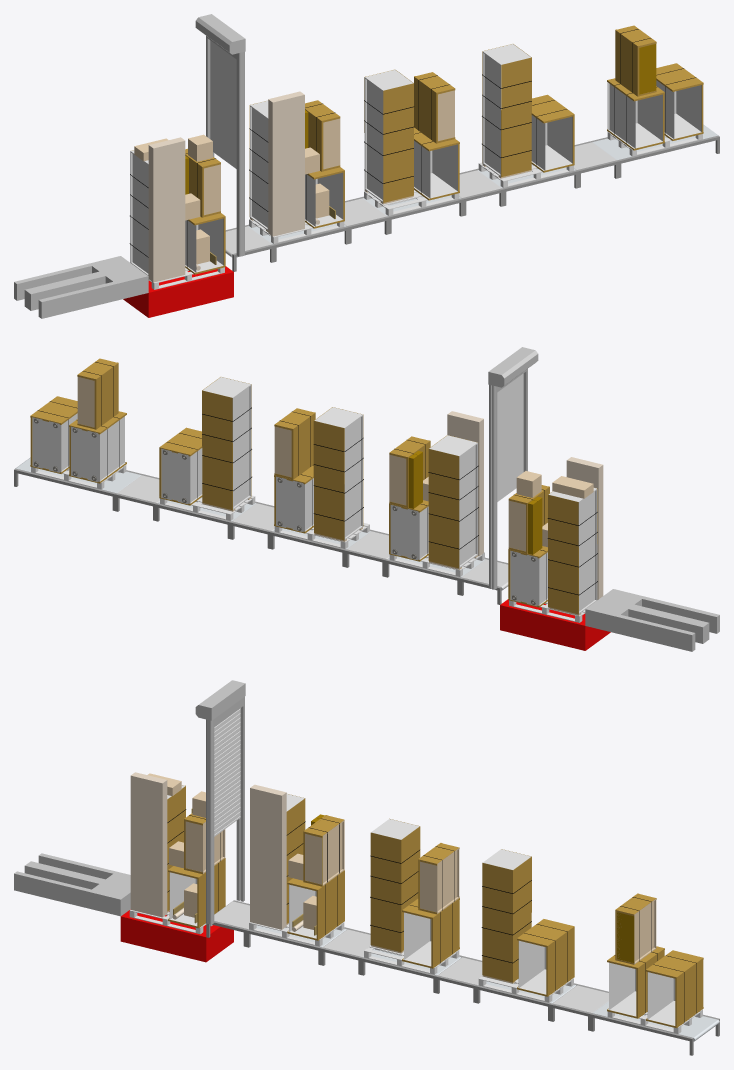
Rendered from squelette.glb.
3 views of the same model, one above another, from view 1: azimuth 30°, elevation 25°; view 2: azimuth 150°, elevation 25°; view 3: azimuth 330°, elevation 25° (orthographic).
Visible parts, largest first — view 1: Part 1 (×24), Part 4 (×8), Part 28__Part 28, Part 2 (×6), Part 3 (×2), Part 55__Part 55, Part 21__Part 21, Part 62__Part 62, Part 54__Part 54; view 2: Part 1 (×25), Part 4 (×8), Part 3 (×4), Part 28__Part 28, Part 2 (×5), Part 21__Part 21, Part 55__Part 55, Part 62__Part 62, Part 54__Part 54; view 3: Part 1 (×19), Part 3 (×8), Part 4 (×6), Part 28__Part 28, Part 62__Part 62, Part 21__Part 21, Part 2 (×4), Part 55__Part 55, Part 54__Part 54.
Boxes of the visible parts, x1,y1,x2,y2 form: Part 1 (×24): (130, 44, 719, 282); Part 4 (×8): (185, 29, 703, 217); Part 28__Part 28: (14, 256, 148, 318); Part 2 (×6): (249, 44, 718, 243); Part 3 (×2): (383, 97, 531, 202); Part 55__Part 55: (210, 40, 236, 168); Part 21__Part 21: (123, 266, 233, 317); Part 62__Part 62: (206, 36, 244, 256); Part 54__Part 54: (195, 14, 245, 54); Part 1 (×25): (14, 377, 603, 613); Part 4 (×8): (30, 362, 597, 557); Part 3 (×4): (202, 430, 578, 614); Part 28__Part 28: (585, 589, 719, 651); Part 2 (×5): (15, 457, 484, 576); Part 21__Part 21: (500, 599, 610, 650); Part 55__Part 55: (497, 373, 523, 501); Part 62__Part 62: (489, 369, 527, 589); Part 54__Part 54: (488, 347, 538, 387); Part 1 (×19): (130, 772, 719, 1055); Part 3 (×8): (197, 860, 703, 1026); Part 4 (×6): (167, 785, 703, 978); Part 28__Part 28: (14, 853, 130, 916); Part 62__Part 62: (206, 697, 244, 924); Part 21__Part 21: (120, 909, 233, 962); Part 2 (×4): (364, 912, 719, 1041); Part 55__Part 55: (214, 708, 240, 836); Part 54__Part 54: (195, 680, 245, 720).
Size of the model in its own units: 12.72 by 4.63 by 1.1.
